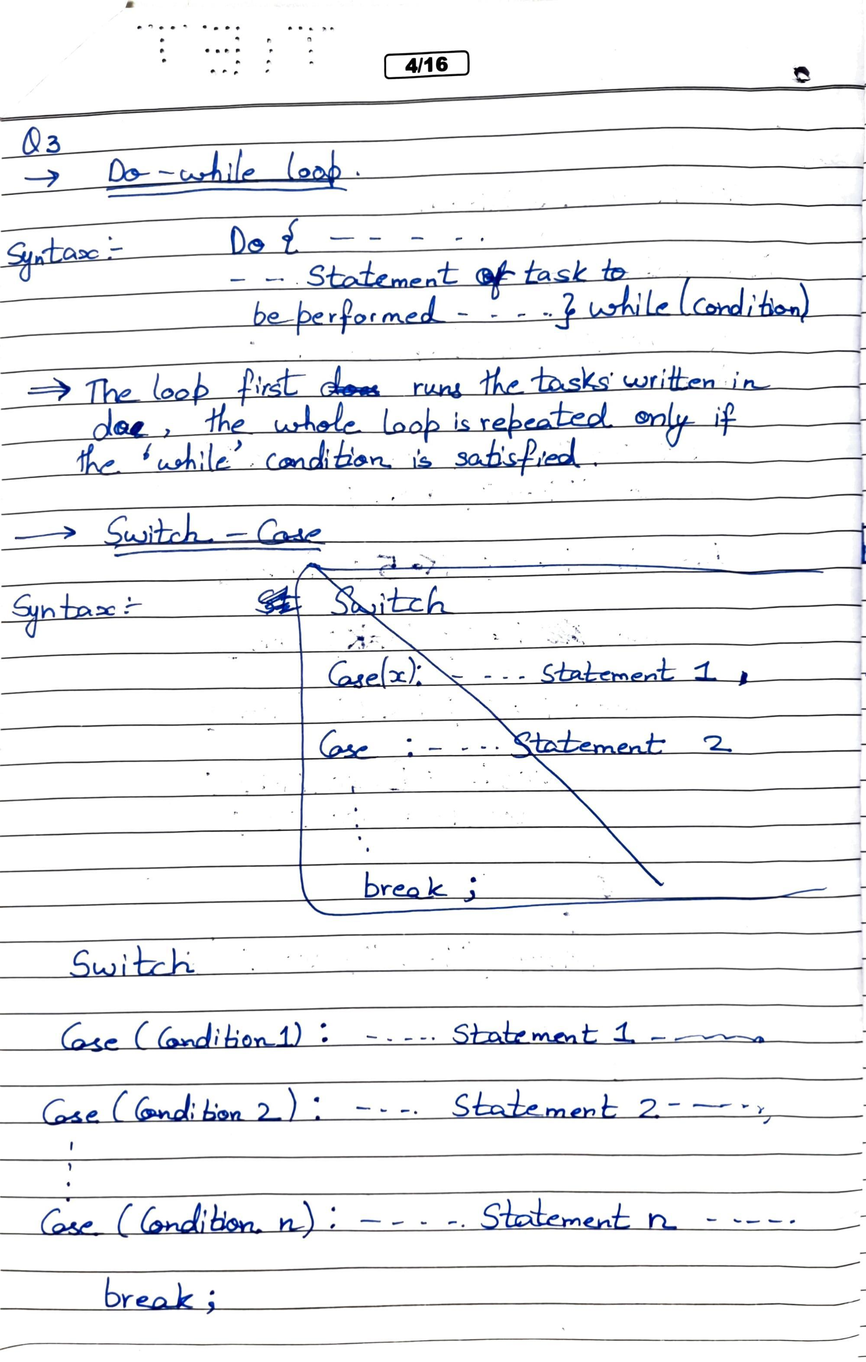cuttings: (316, 583, 753, 890), (318, 362, 383, 398), (253, 584, 305, 616)
